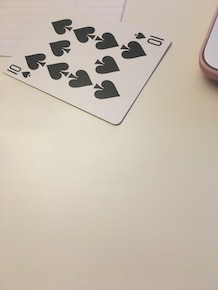TenOfSpades: (1, 5, 174, 131)
